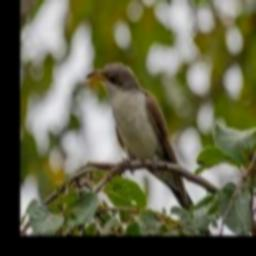Cuckoo: (85, 62, 212, 236)
